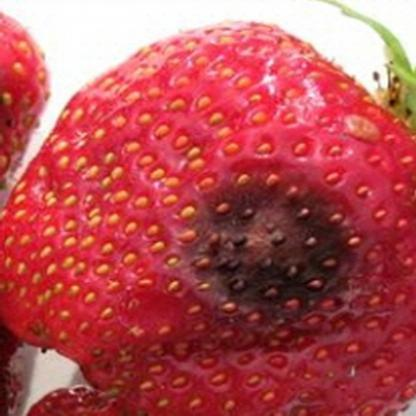Strawberry_Anthracnose_Fruit_Rot: (173, 158, 367, 344)
